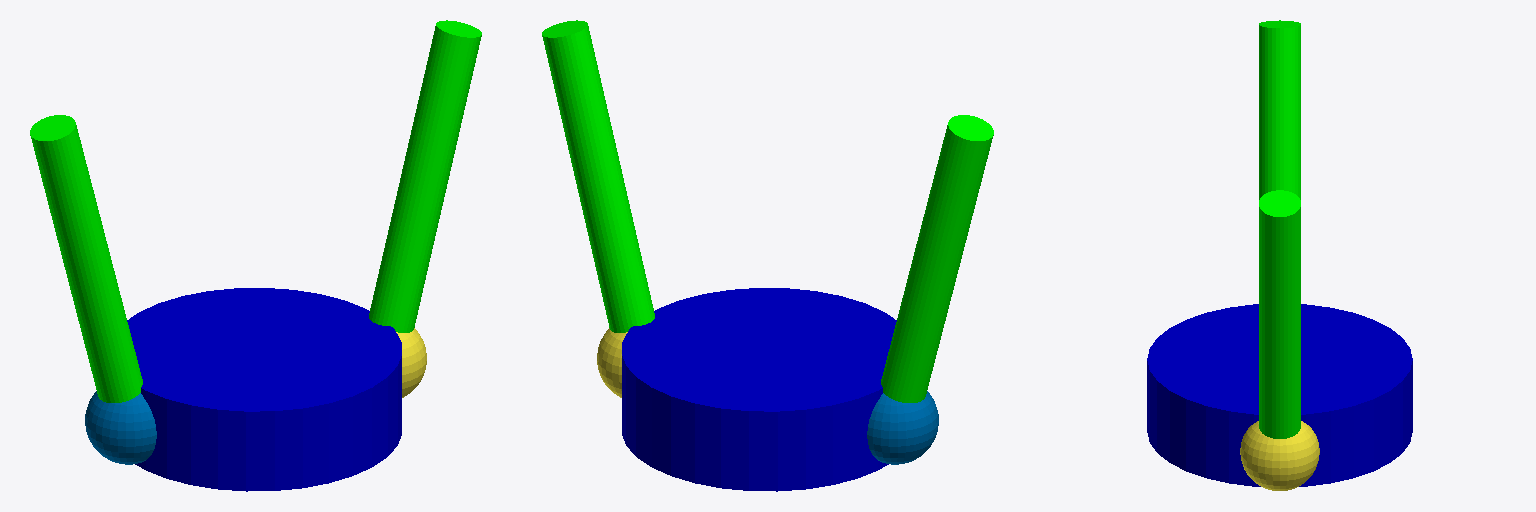
URDF robot description (gripper_2f_1j):
<?xml version='1.0' encoding='UTF-8'?>
<robot name="gripper_2f_1j">
  <link name="palm">
    <inertial>
      <origin xyz="0.0 0.0 0.0" rpy="0.0 -0.0 0.0"/>
      <mass value="1.0"/>
      <inertia ixx="1.0" ixy="0.0" ixz="0.0" iyy="1.0" iyz="0.0" izz="1.0"/>
    </inertial>
    <visual>
      <geometry>
        <cylinder radius="0.05" length="0.03"/>
      </geometry>
      <material name="blue"/>
      <origin xyz="0.0 0.0 0.0" rpy="0.0 -0.0 0.0"/>
    </visual>
    <collision>
      <geometry>
        <cylinder radius="0.05" length="0.03"/>
      </geometry>
      <origin xyz="0.0 0.0 0.0" rpy="0.0 0.0 0.0"/>
    </collision>
  </link>
  <link name="f11">
    <inertial>
      <origin xyz="0.0 0.0 0.0" rpy="0.0 -0.0 0.0"/>
      <mass value="1.0"/>
      <inertia ixx="1.0" ixy="0.0" ixz="0.0" iyy="1.0" iyz="0.0" izz="1.0"/>
    </inertial>
    <visual>
      <geometry>
        <cylinder radius="0.008033586393518434" length="0.12063809844541291"/>
      </geometry>
      <material name="green"/>
      <origin xyz="0.0 0.0 0.06031904922270646" rpy="0.0 -0.0 0.0"/>
    </visual>
    <collision>
      <geometry>
        <cylinder radius="0.008033586393518434" length="0.12063809844541291"/>
      </geometry>
      <origin xyz="0.0 0.0 0.05" rpy="0.0 0.0 0.0"/>
    </collision>
  </link>
  <link name="f21">
    <inertial>
      <origin xyz="0.0 0.0 0.0" rpy="0.0 -0.0 0.0"/>
      <mass value="1.0"/>
      <inertia ixx="1.0" ixy="0.0" ixz="0.0" iyy="1.0" iyz="0.0" izz="1.0"/>
    </inertial>
    <visual>
      <geometry>
        <cylinder radius="0.008033586393518434" length="0.12063809844541291"/>
      </geometry>
      <material name="green"/>
      <origin xyz="0.0 0.0 0.06031904922270646" rpy="0.0 -0.0 0.0"/>
    </visual>
    <collision>
      <geometry>
        <cylinder radius="0.008033586393518434" length="0.12063809844541291"/>
      </geometry>
      <origin xyz="0.0 0.0 0.05" rpy="0.0 0.0 0.0"/>
    </collision>
  </link>
  <link name="f11_base">
    <inertial>
      <origin xyz="0.0 0.0 0.0" rpy="0.0 -0.0 0.0"/>
      <mass value="1.0"/>
      <inertia ixx="1.0" ixy="0.0" ixz="0.0" iyy="1.0" iyz="0.0" izz="1.0"/>
    </inertial>
    <visual>
      <geometry>
        <sphere radius="0.015"/>
      </geometry>
      <origin xyz="0.0 0.0 0.0" rpy="0.0 -0.0 0.0"/>
    </visual>
  </link>
  <link name="f21_base">
    <inertial>
      <origin xyz="0.0 0.0 0.0" rpy="0.0 -0.0 0.0"/>
      <mass value="1.0"/>
      <inertia ixx="1.0" ixy="0.0" ixz="0.0" iyy="1.0" iyz="0.0" izz="1.0"/>
    </inertial>
    <visual>
      <geometry>
        <sphere radius="0.015"/>
      </geometry>
      <origin xyz="0.0 0.0 0.0" rpy="0.0 -0.0 0.0"/>
    </visual>
  </link>
  <joint name="f11_joint" type="revolute">
    <dynamics damping="100.0" friction="1.0"/>
    <limit effort="30.0" velocity="2.0" lower="-0.6" upper="0.25"/>
    <parent link="f11_base"/>
    <child link="f11"/>
    <axis xyz="0. 1. 0."/>
    <origin xyz="0.0 0.0 0.0" rpy="0.0 0.25 0.0"/>
  </joint>
  <joint name="f21_joint" type="revolute">
    <dynamics damping="100.0" friction="1.0"/>
    <limit effort="30.0" velocity="2.0" lower="-0.6" upper="0.25"/>
    <parent link="f21_base"/>
    <child link="f21"/>
    <axis xyz=" 0. -1.  0."/>
    <origin xyz="0.0 0.0 0.0" rpy="0.0 -0.25 0.0"/>
  </joint>
  <joint name="f11_base_joint" type="fixed">
    <parent link="palm"/>
    <child link="f11_base"/>
    <axis xyz="1. 0. 0."/>
    <origin xyz="0.05 0.0 0.0" rpy="0.0 0.0 0.0"/>
  </joint>
  <joint name="f21_base_joint" type="fixed">
    <parent link="palm"/>
    <child link="f21_base"/>
    <axis xyz="1. 0. 0."/>
    <origin xyz="-0.05 -0.0 0.0" rpy="0.0 0.0 0.0"/>
  </joint>
  <material name="blue">
    <color rgba="0.  0.  0.8 1. "/>
  </material>
  <material name="green">
    <color rgba="0. 1. 0. 1."/>
  </material>
</robot>

--- Render facts (derived) ---
The picture shows the robot from 3 angles, left to right: view 1: azimuth 30°, elevation 25°; view 2: azimuth 150°, elevation 25°; view 3: azimuth 270°, elevation 25°; orthographic projection.
Model gripper_2f_1j with 5 links and 4 joints (2 revolute, 2 fixed), rooted at palm, posed all joints at 0.
Visible links, largest first — view 1: palm, f11, f21, f21_base, f11_base; view 2: palm, f11, f21, f21_base, f11_base; view 3: palm, f11, f21, f11_base.
Link boxes in pixels (x1=…): palm: x1=127, y1=288, x2=401, y2=491; f11: x1=369, y1=20, x2=481, y2=332; f21: x1=30, y1=115, x2=142, y2=402; f21_base: x1=85, y1=391, x2=156, y2=464; f11_base: x1=396, y1=328, x2=426, y2=397; palm: x1=622, y1=288, x2=896, y2=491; f11: x1=542, y1=20, x2=654, y2=332; f21: x1=881, y1=115, x2=993, y2=402; f21_base: x1=867, y1=391, x2=938, y2=464; f11_base: x1=597, y1=328, x2=627, y2=397; palm: x1=1147, y1=304, x2=1412, y2=486; f11: x1=1259, y1=190, x2=1300, y2=438; f21: x1=1259, y1=20, x2=1300, y2=199; f11_base: x1=1240, y1=421, x2=1319, y2=490.
Size in the robot's own frame: 0.1753 by 0.1 by 0.1339 metres.
Geometry: primitives only (box / cylinder / sphere), no mesh files.